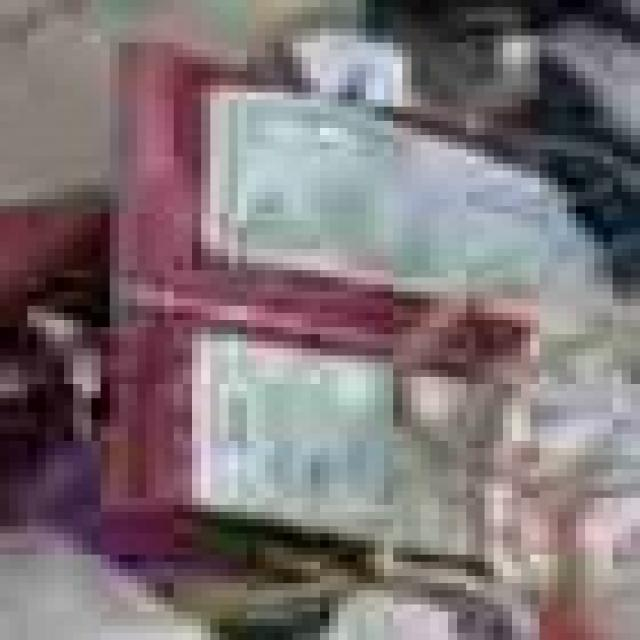giay_goi: (110, 50, 549, 629)
